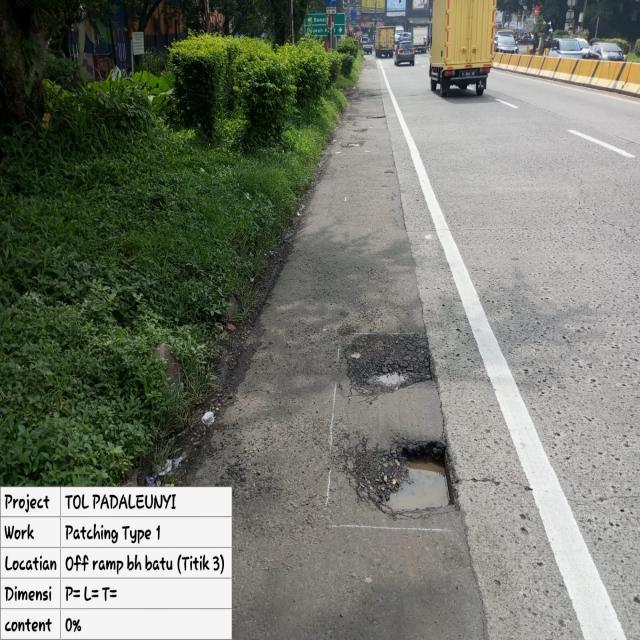Buraco: (346, 435, 463, 521), (339, 329, 441, 407)
